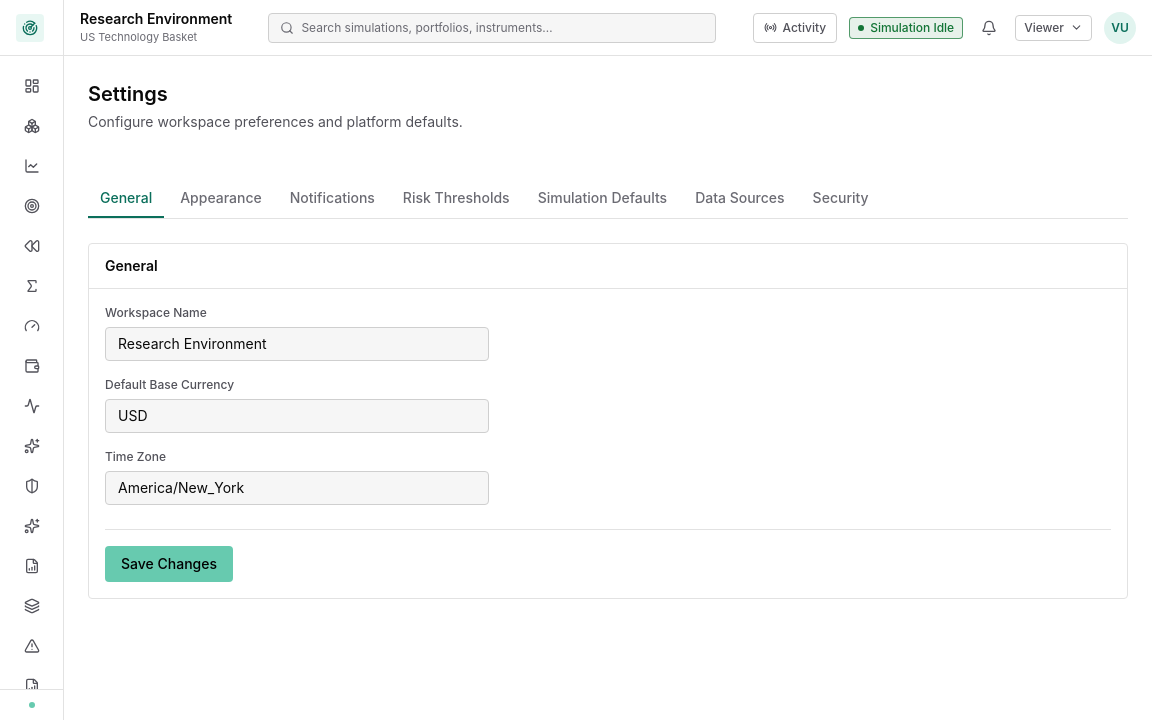
Test case: changing your own password › checks the new password pair before sending anything
Click the button "Security" at (841, 199), box [801,180,880,218]
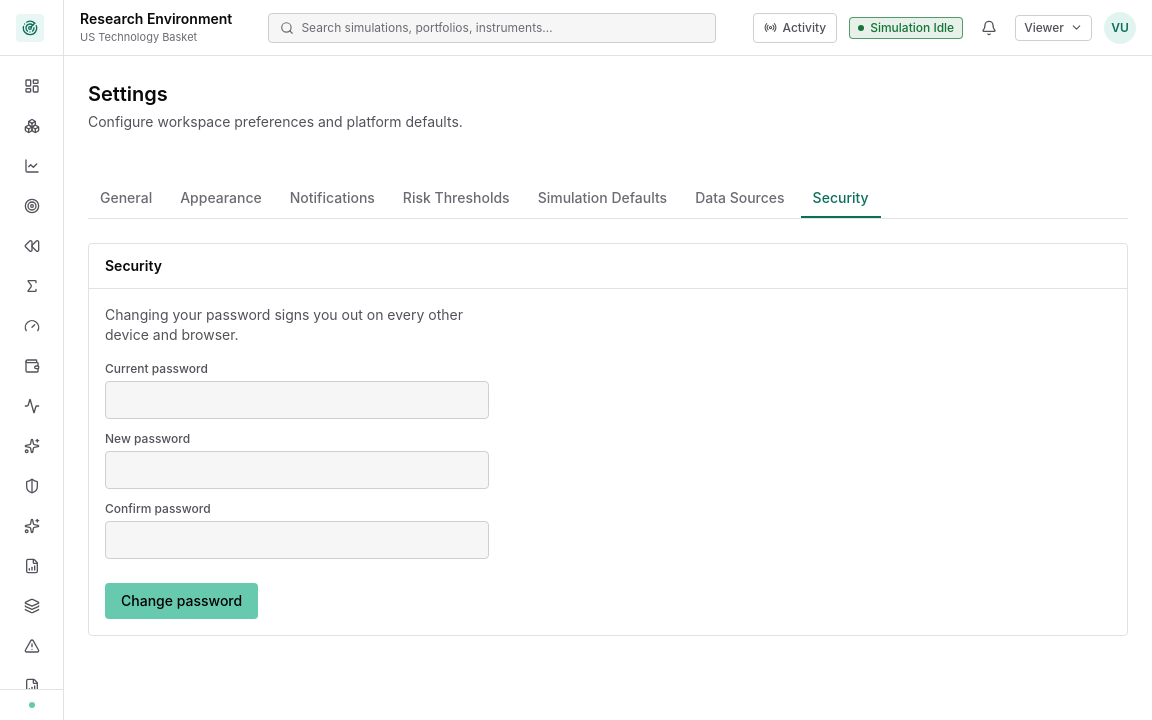
Type "old-password-123" into the password field labelled "Current password" at (297, 400), box [105,381,489,419]
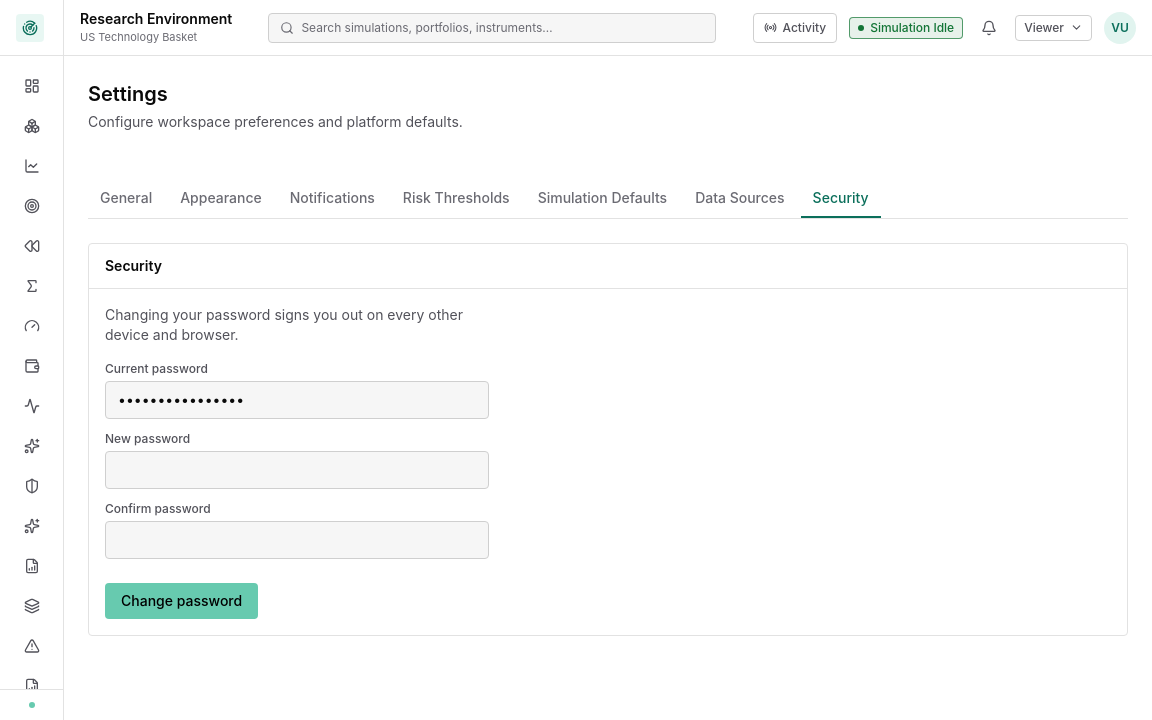
Type "brand-new-password-1" into the password field labelled "New password" at (297, 470), box [105,451,489,489]
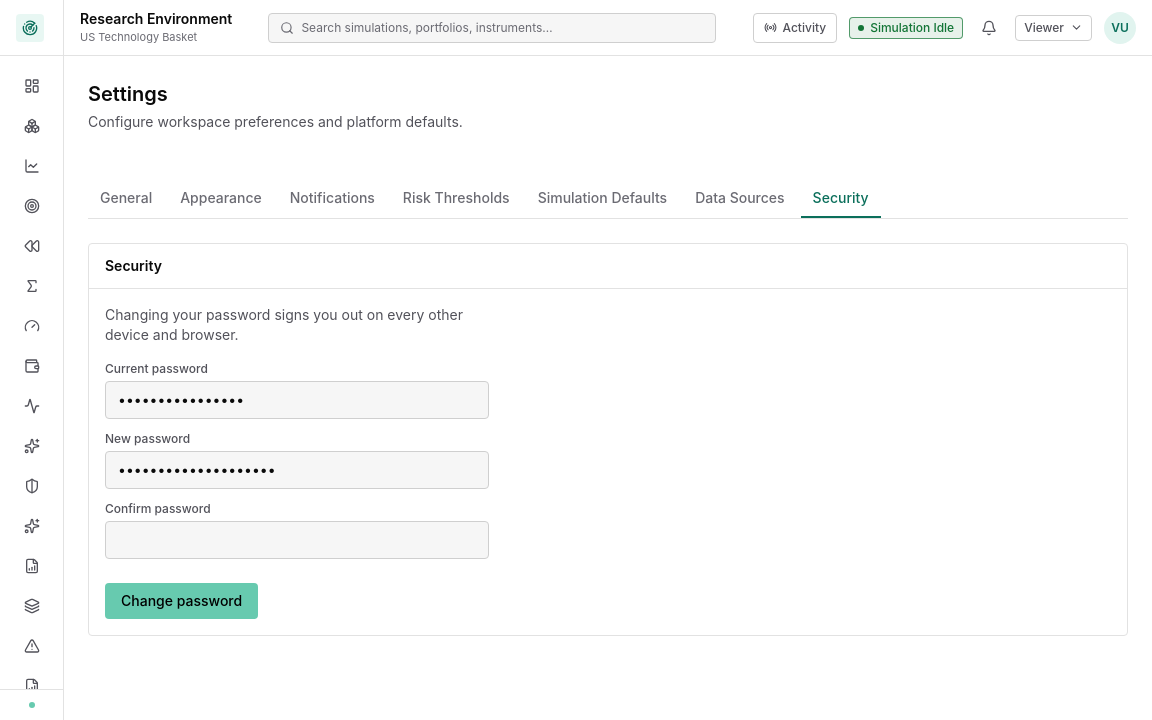
Type "something-else-12" into the password field labelled "Confirm password" at (297, 540), box [105,521,489,559]
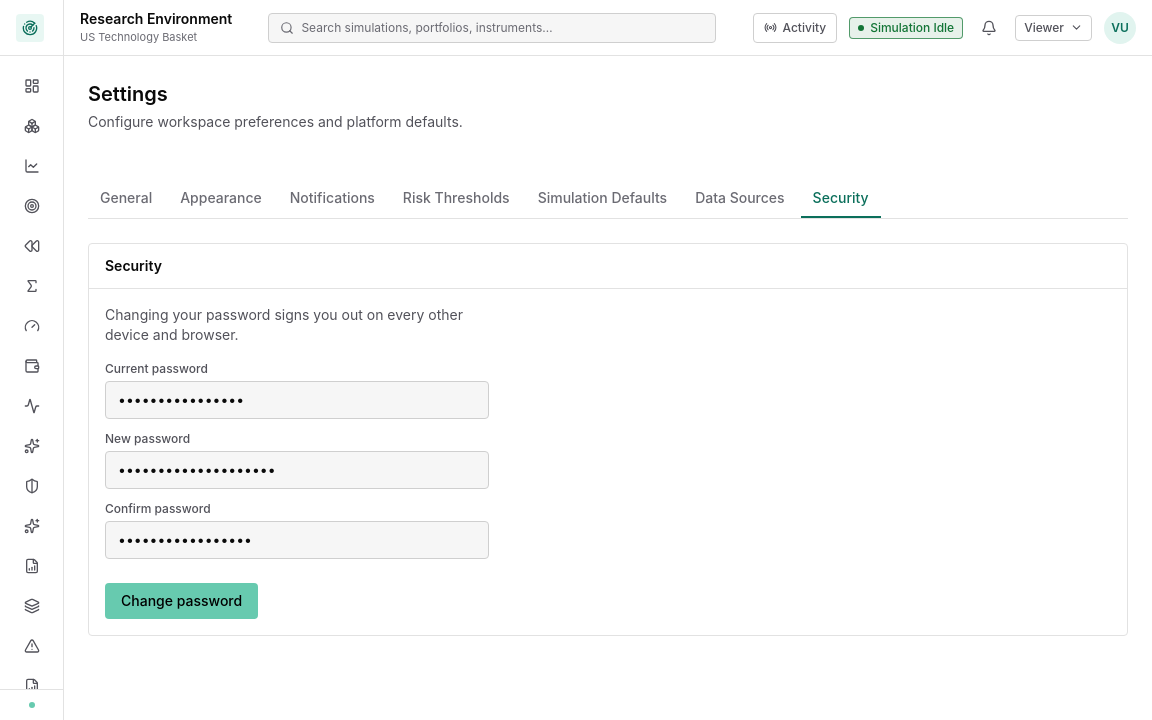
Click the button "Change password" at (182, 601), box [105,583,258,619]
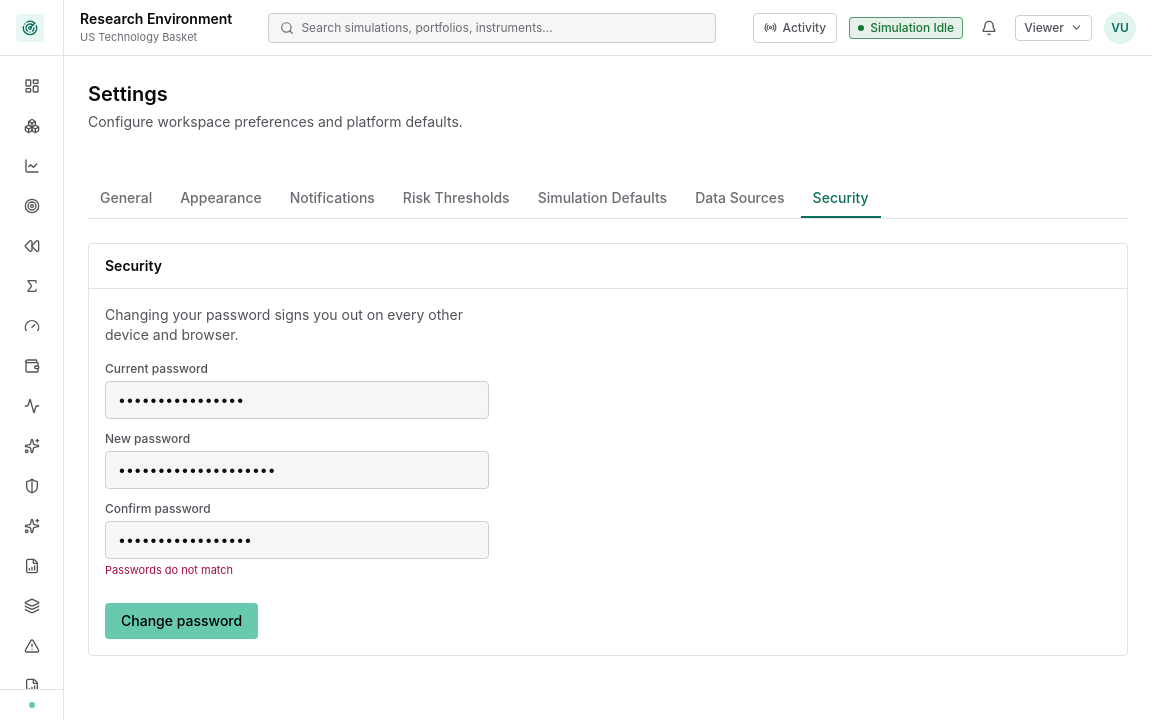
Expected: the text "Passwords do not match" is shown, [105,563,233,577]
